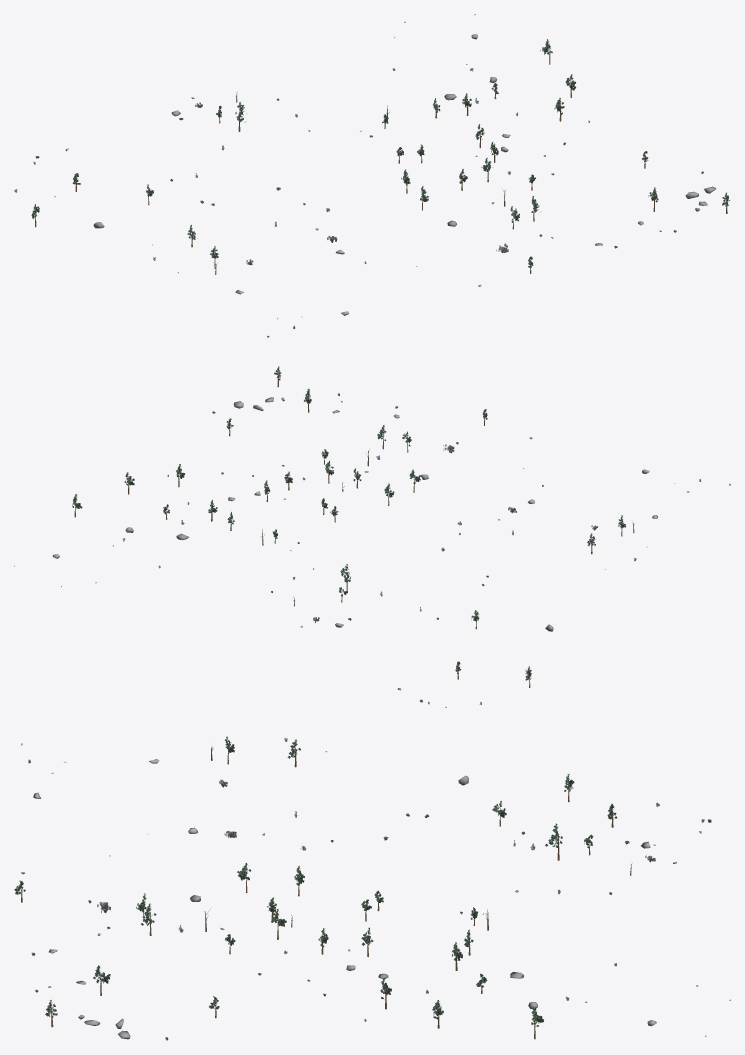
The model's file is frost_land_scatter_c13_10.glb.
3 views of the same model, one above another, from view 1: azimuth 30°, elevation 25°; view 2: azimuth 150°, elevation 25°; view 3: azimuth 270°, elevation 25° (orthographic). The views are drawn at different scales.
Visible parts, largest first — view 1: frost_land_scatter_c13_10; view 2: frost_land_scatter_c13_10; view 3: frost_land_scatter_c13_10.
Part boxes in pixels (<box>): frost_land_scatter_c13_10: <box>14,14,729,337</box>; frost_land_scatter_c13_10: <box>14,366,730,707</box>; frost_land_scatter_c13_10: <box>14,736,730,1040</box>.
Bounding box in the file's own units: 255 × 42.78 × 255.
